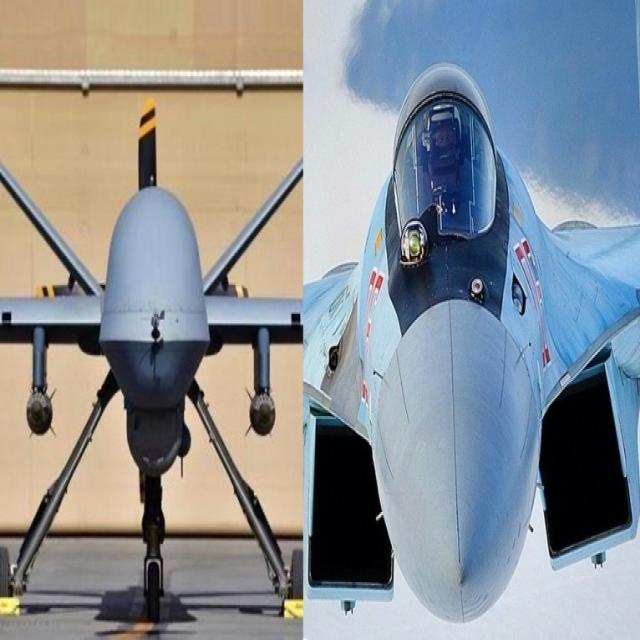MQ9: (313, 9, 640, 640), (0, 62, 333, 623)
